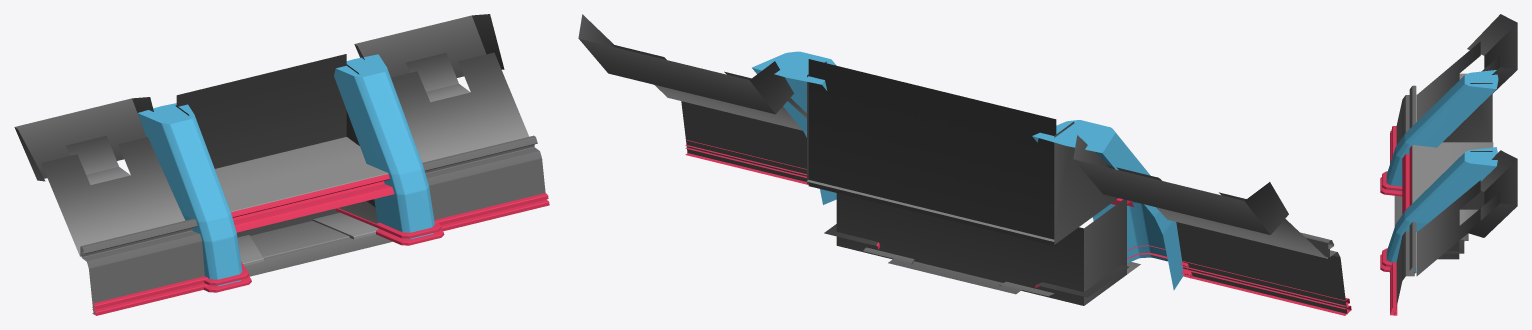
Rendered from SMrinkWallEntranceV0.2.fbx.
3 views of the same model, side by side, from view 1: azimuth 30°, elevation 25°; view 2: azimuth 150°, elevation 25°; view 3: azimuth 270°, elevation 25° (orthographic). The views are drawn at different scales.
Parts seen in each view (by area): view 1: SMrinkWallEntrance; view 2: SMrinkWallEntrance; view 3: SMrinkWallEntrance.
Boxes of the visible parts, x1,y1,x2,y2 form: SMrinkWallEntrance: (14, 14, 549, 315); SMrinkWallEntrance: (578, 14, 1351, 315); SMrinkWallEntrance: (1380, 14, 1517, 315).
Bounding box in the file's own units: 4168 × 1205 × 1282.
